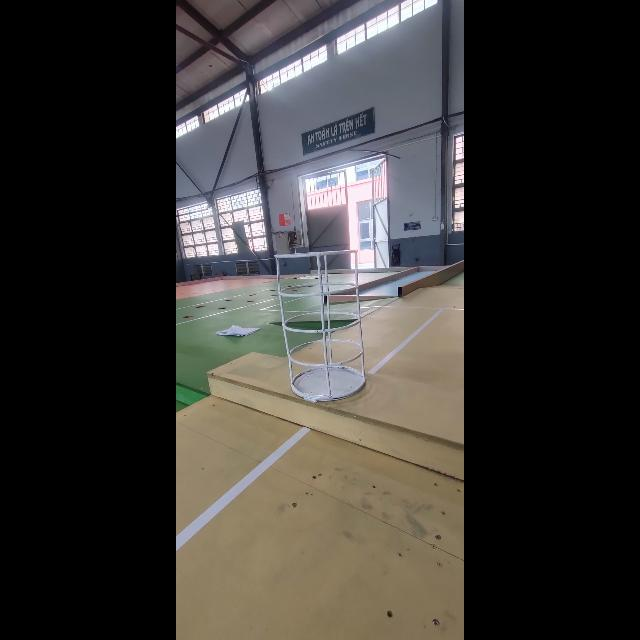S: (274, 249, 368, 403)
